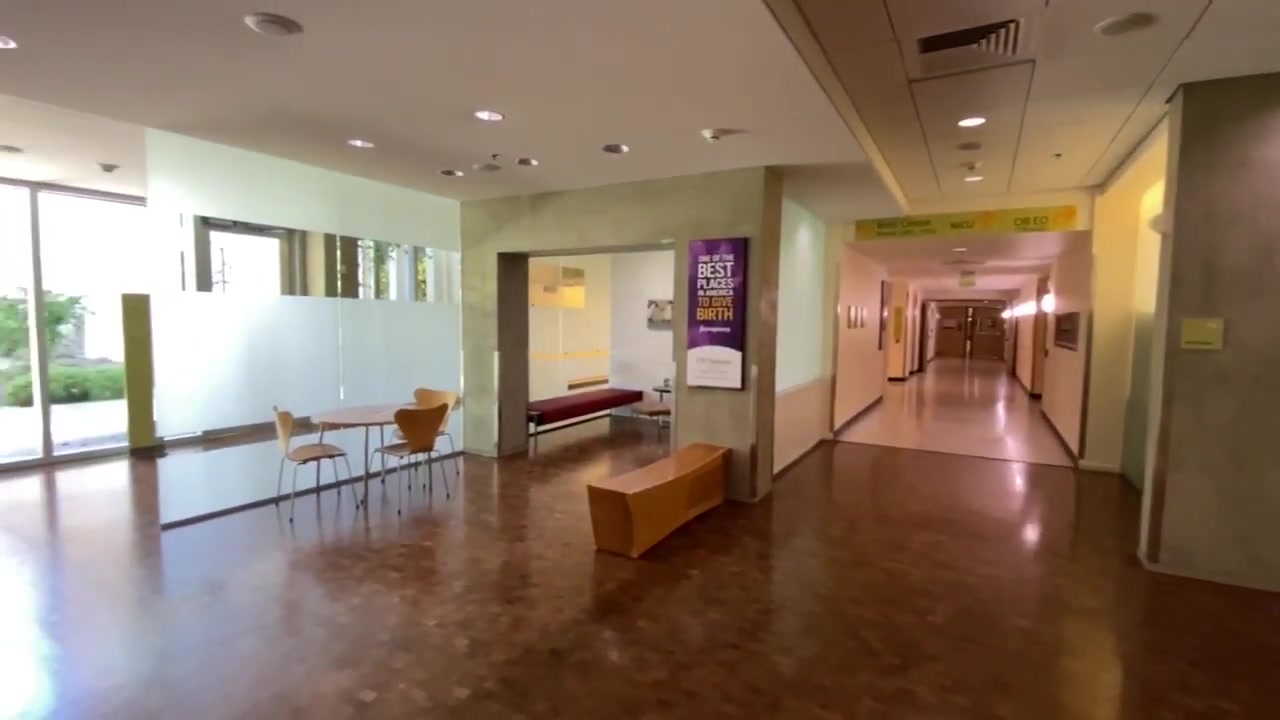chair: (586, 442, 728, 558), (272, 405, 360, 523), (360, 403, 450, 516), (380, 388, 460, 490), (628, 383, 674, 436)
sofa: (527, 388, 643, 450)
table: (310, 406, 433, 510)
